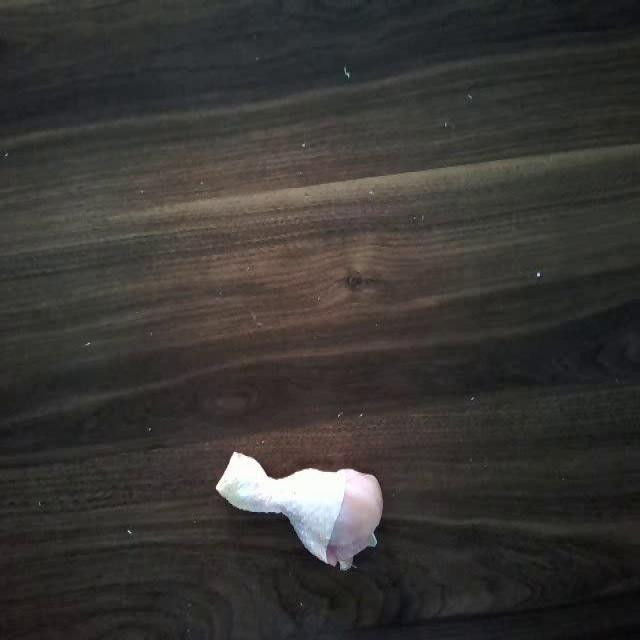leg: (212, 444, 382, 566)
